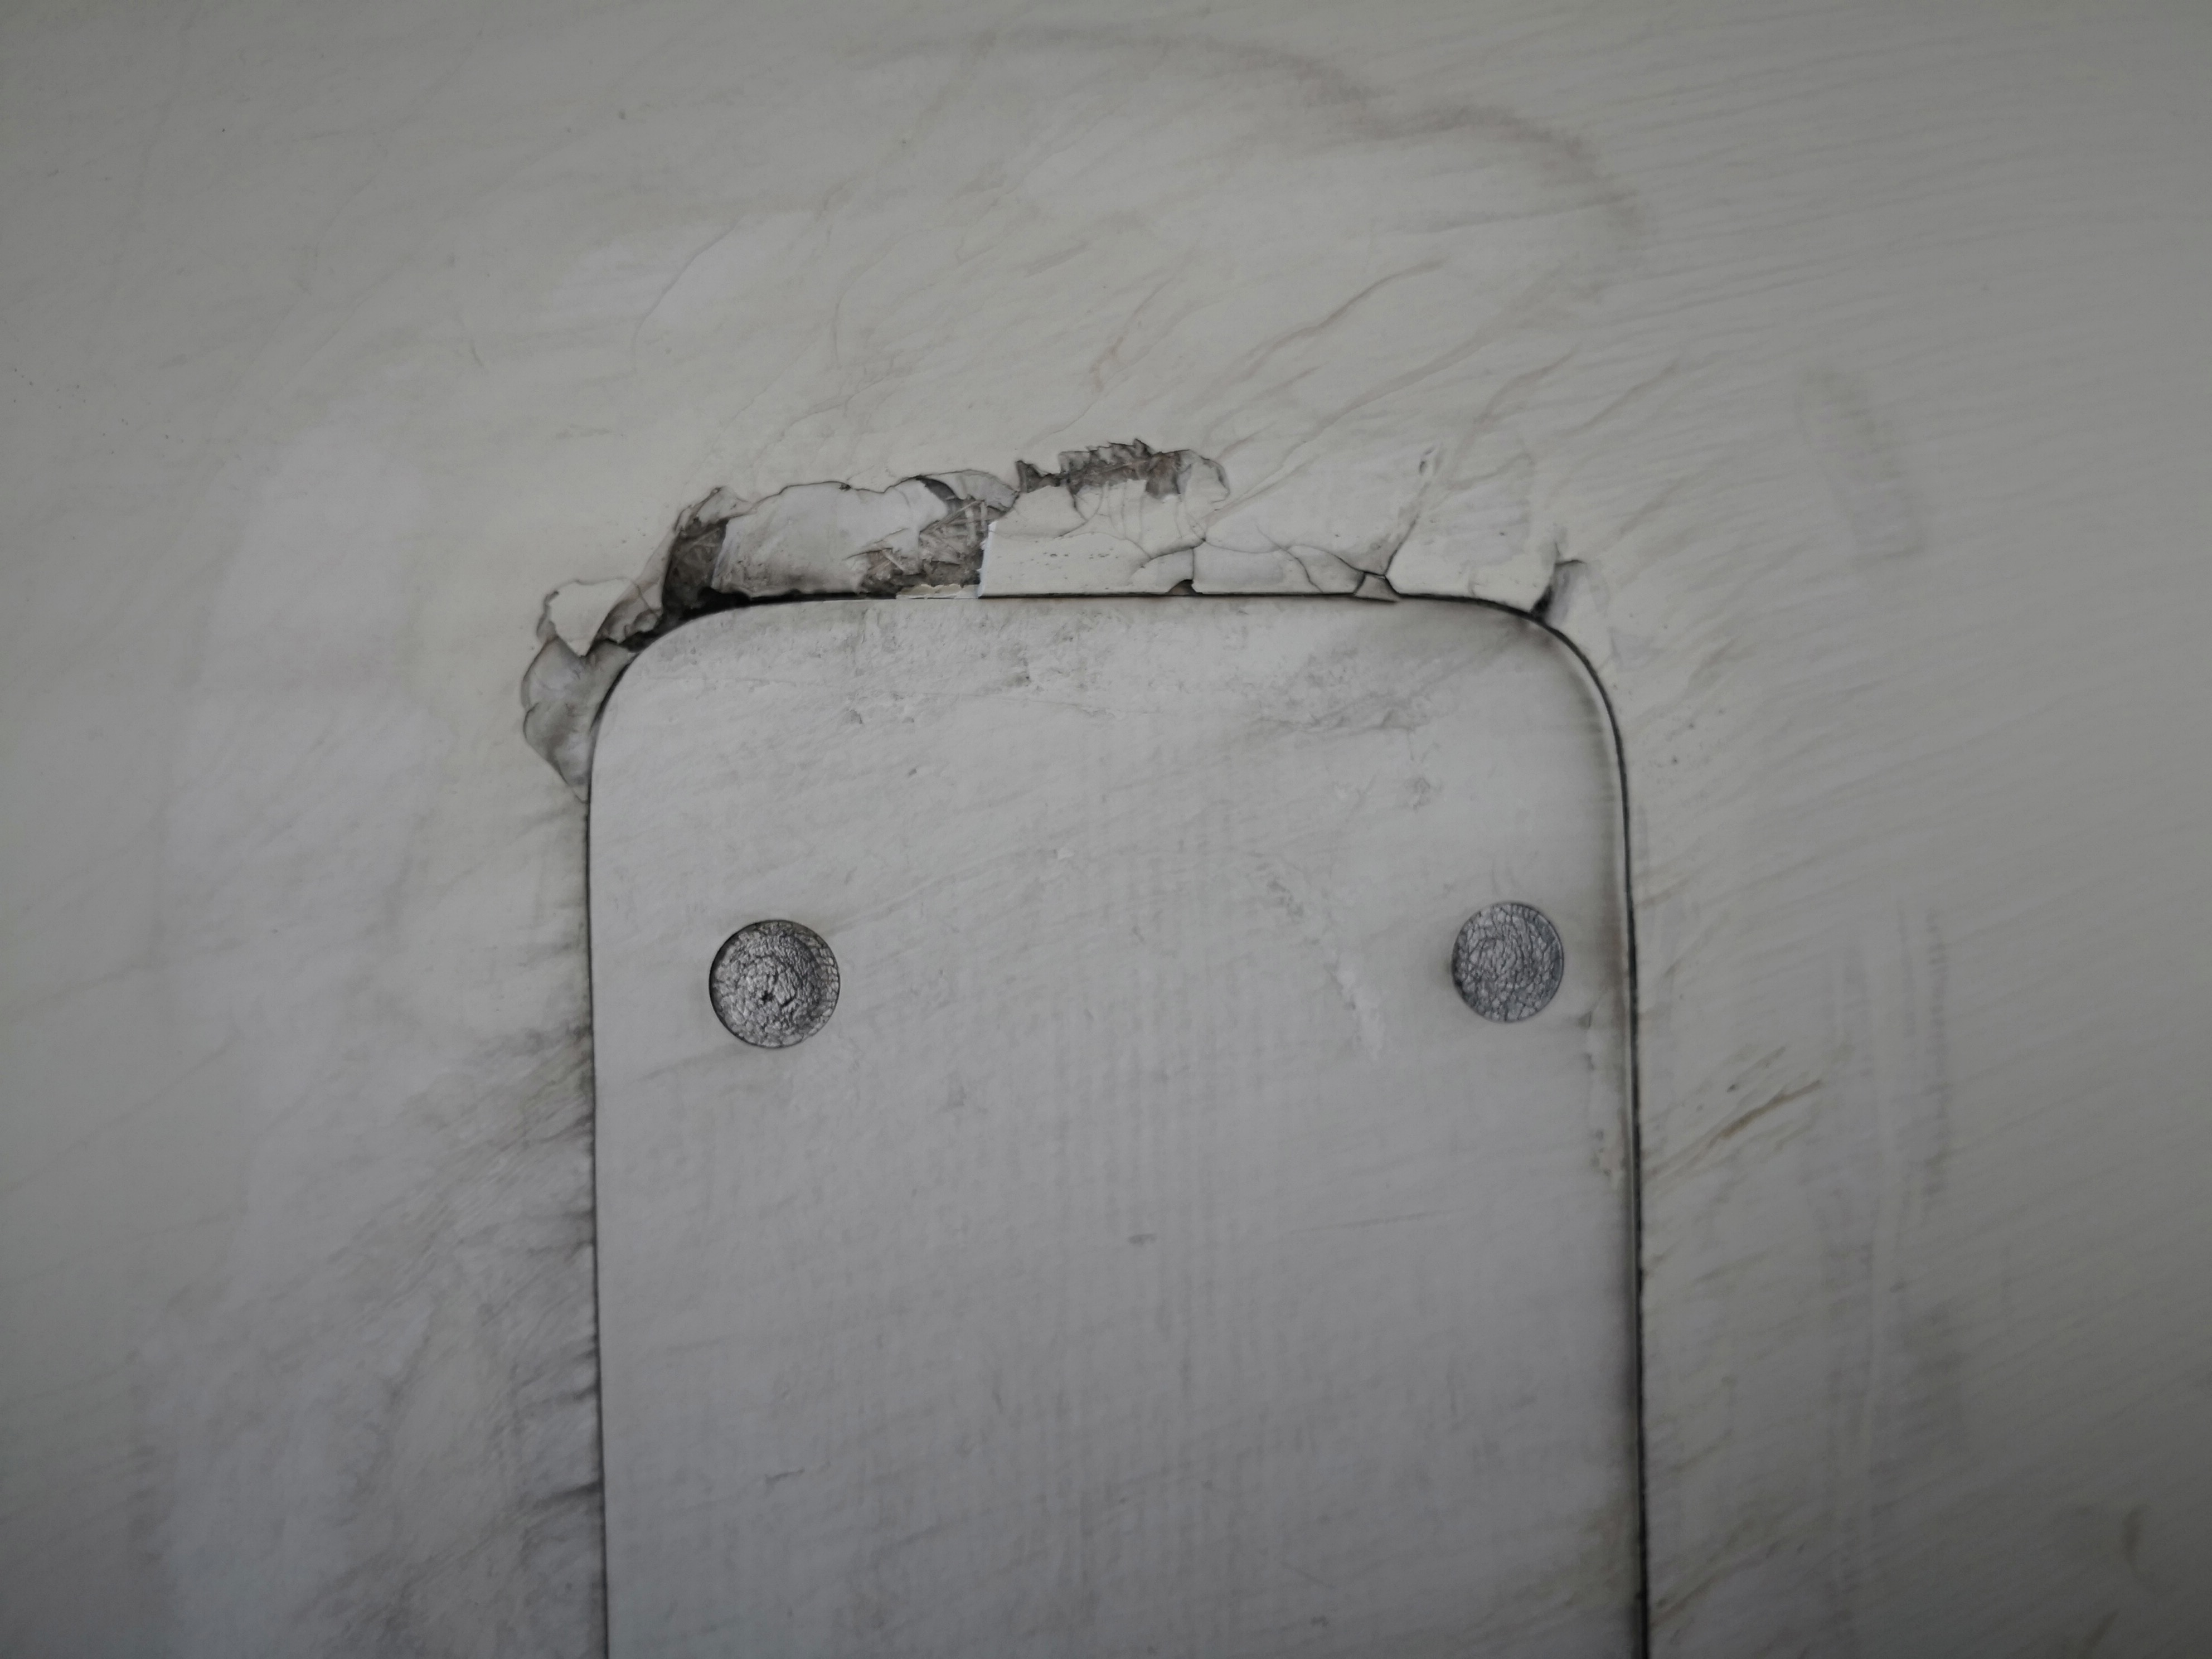B&C: (467, 462, 1696, 810)
